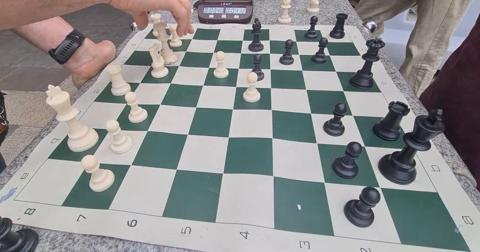xcorner: (237, 33, 248, 44), (319, 33, 329, 44), (291, 33, 301, 44), (264, 33, 274, 44), (293, 47, 304, 57), (264, 46, 274, 57), (235, 46, 246, 56), (155, 45, 165, 56), (330, 63, 340, 74), (174, 60, 184, 71), (134, 77, 145, 87), (189, 101, 200, 111), (154, 100, 165, 110), (264, 134, 275, 144), (221, 131, 232, 141), (141, 126, 151, 137), (168, 164, 179, 174), (212, 33, 222, 43), (187, 33, 197, 43), (163, 33, 173, 43), (324, 47, 334, 57), (208, 46, 218, 56), (181, 46, 191, 56), (296, 63, 306, 73), (264, 62, 274, 72), (233, 62, 243, 72), (203, 61, 213, 71), (146, 60, 156, 70), (337, 83, 347, 93), (300, 82, 310, 92), (264, 81, 274, 91), (230, 80, 240, 90), (197, 79, 207, 89), (165, 78, 175, 88), (346, 108, 356, 118), (304, 106, 314, 116), (264, 104, 274, 114), (226, 103, 236, 113), (121, 98, 131, 108), (358, 139, 368, 149), (310, 136, 320, 146), (180, 129, 190, 139), (104, 124, 114, 134), (373, 181, 383, 191), (317, 176, 327, 186), (265, 172, 275, 182), (215, 168, 225, 178), (124, 161, 134, 171), (82, 157, 92, 167)
